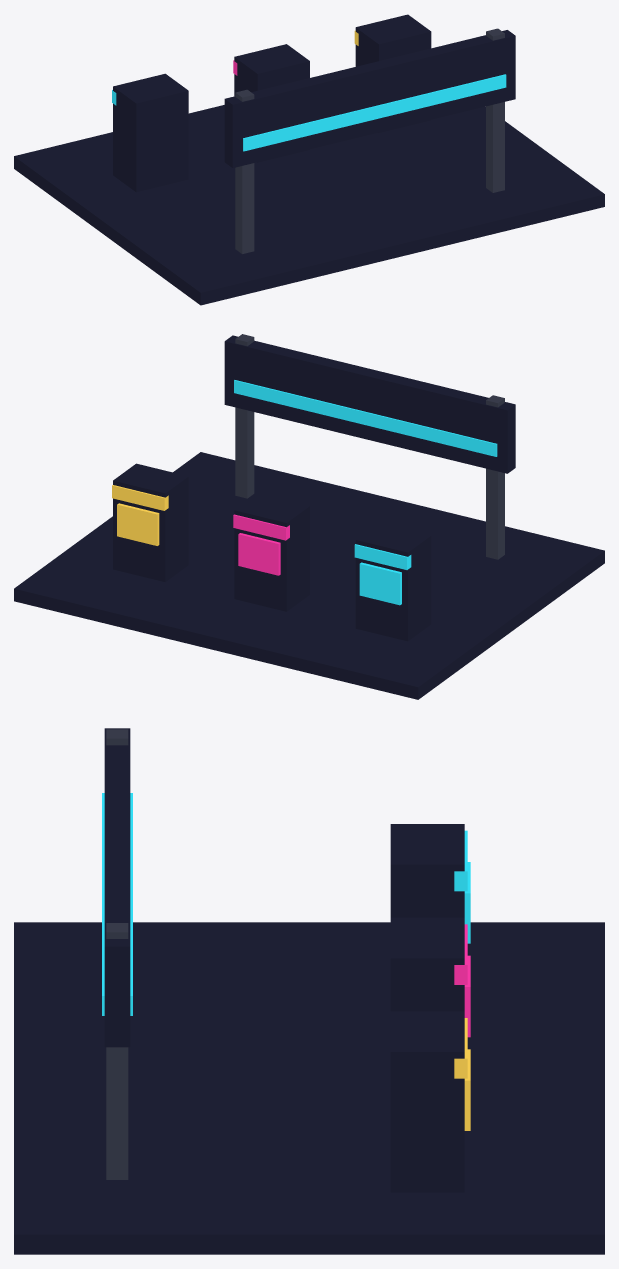
The model's file is agent-arcade-transformed.glb.
The picture shows the model from 3 angles, top to bottom: view 1: azimuth 30°, elevation 25°; view 2: azimuth 150°, elevation 25°; view 3: azimuth 270°, elevation 25°; orthographic projection. The views are drawn at different scales.
Parts seen in each view (by area): view 1: park_dark, park_neon_cyan, park_metal; view 2: park_dark, park_neon_cyan, park_metal, park_neon_magenta, park_neon_yellow; view 3: park_dark, park_metal, park_neon_cyan, park_neon_yellow, park_neon_magenta.
Boxes of the visible parts, box(x1,y1,x2,y2) form: park_dark: box(14, 14, 604, 305); park_neon_cyan: box(112, 74, 506, 151); park_metal: box(235, 28, 504, 253); park_dark: box(14, 335, 604, 699); park_neon_cyan: box(234, 380, 497, 605); park_metal: box(235, 334, 504, 559); park_neon_magenta: box(233, 514, 289, 575); park_neon_yellow: box(112, 485, 168, 545); park_dark: box(14, 728, 604, 1254); park_metal: box(106, 729, 128, 1179); park_neon_cyan: box(102, 793, 470, 1015); park_neon_yellow: box(454, 1018, 470, 1130); park_neon_magenta: box(454, 924, 470, 1037).
Size of what is drawn, in the model's own units: 10 by 4.02 by 8.
